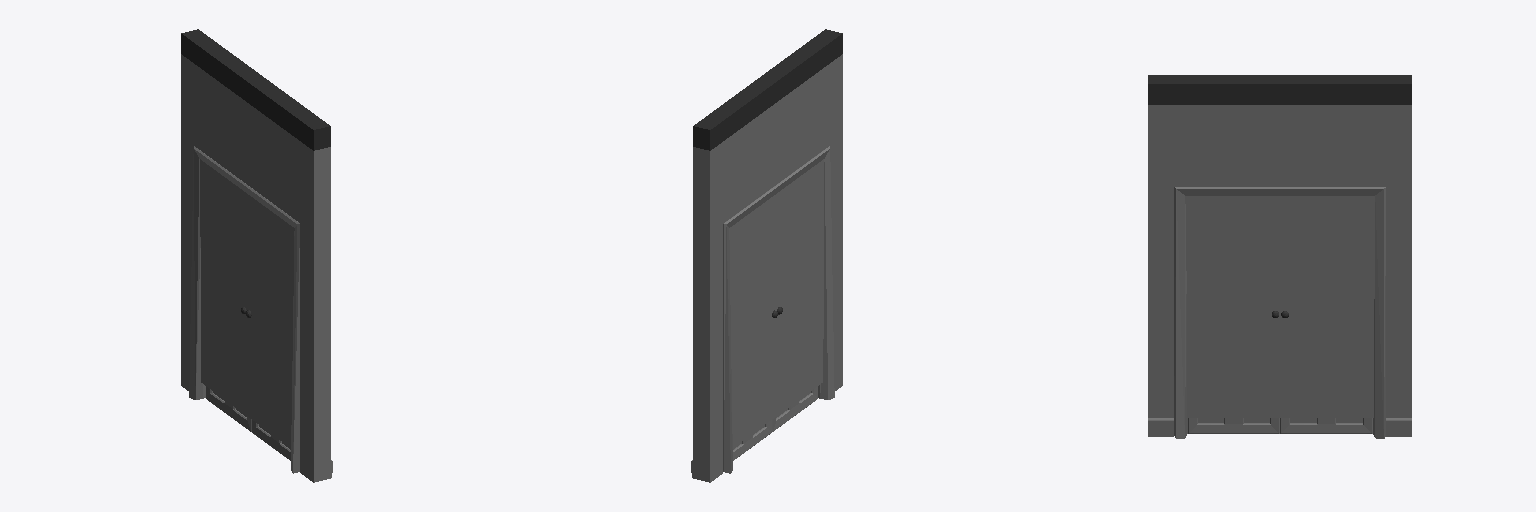
The model's file is uv_Modular_Wall_Door_1m.obj.
3 renders of one model, left to right at view 1: azimuth 30°, elevation 25°; view 2: azimuth 150°, elevation 25°; view 3: azimuth 270°, elevation 25°, orthographic.
Parts seen in each view (by area): view 1: pCube1104, pCube1104 pCube963, pCube1104 pCube962; view 2: pCube1104, pCube1104 pCube963, pCube1104 pCube961; view 3: pCube1104, pCube1104 pCube963, pCube1104 pCube962, pCube1104 pCube961.
Part boxes in pixels (left/top/right/bottom): pCube1104: left=181, top=29, right=332, bottom=482; pCube1104 pCube963: left=189, top=146, right=299, bottom=473; pCube1104 pCube962: left=206, top=386, right=251, bottom=431; pCube1104: left=691, top=29, right=842, bottom=482; pCube1104 pCube963: left=723, top=146, right=834, bottom=473; pCube1104 pCube961: left=772, top=386, right=817, bottom=431; pCube1104: left=1148, top=75, right=1411, bottom=436; pCube1104 pCube963: left=1174, top=187, right=1385, bottom=438; pCube1104 pCube962: left=1280, top=418, right=1372, bottom=433; pCube1104 pCube961: left=1188, top=418, right=1279, bottom=433.
Bounding box in the file's own units: 25.95 × 294 × 200.